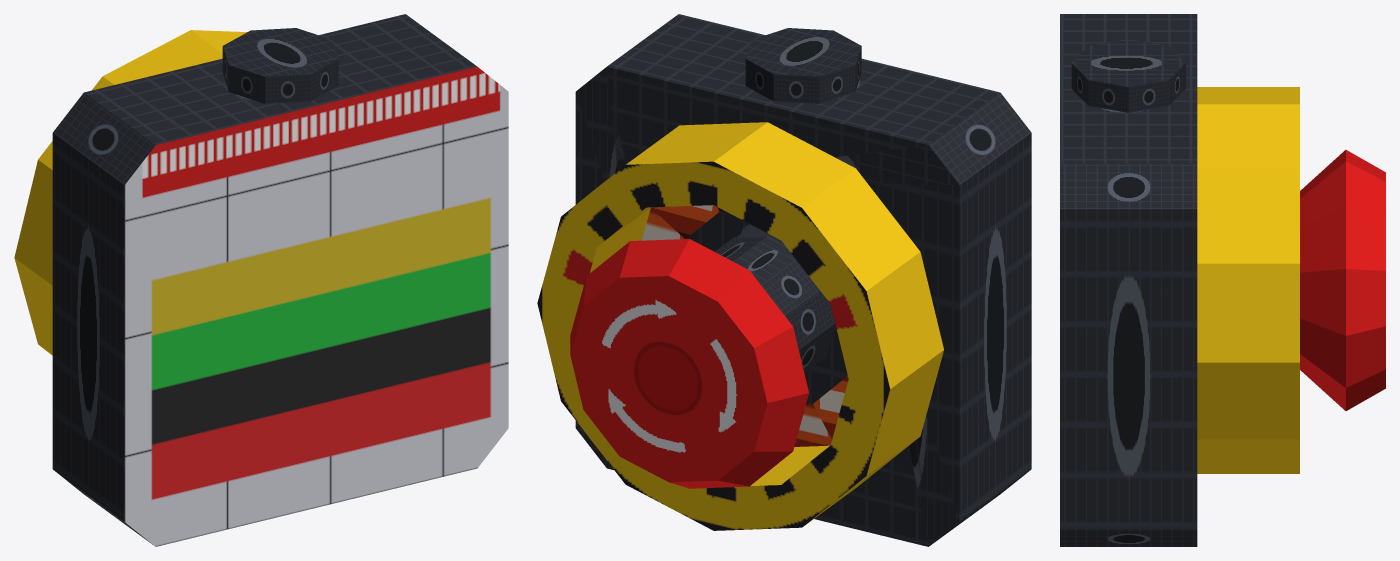
Rendered from SEC_Emergency_Stop_Mushroom.fbx.
3 renders of one model, left to right at view 1: azimuth 30°, elevation 25°; view 2: azimuth 150°, elevation 25°; view 3: azimuth 270°, elevation 25°, orthographic. The views are drawn at different scales.
Visible parts, largest first — view 1: Mount_Base, Guard_Ring; view 2: Mount_Base, Guard_Ring, Mushroom_Button; view 3: Mount_Base, Guard_Ring, Mushroom_Button.
Part boxes in pixels (x1,y1,x2,y2): Mount_Base: [52, 14, 508, 546]; Guard_Ring: [14, 30, 247, 355]; Mount_Base: [575, 14, 1031, 546]; Guard_Ring: [537, 122, 943, 530]; Mushroom_Button: [570, 236, 834, 488]; Mount_Base: [1060, 14, 1197, 546]; Guard_Ring: [1197, 87, 1299, 473]; Mushroom_Button: [1300, 150, 1385, 410].
Size of the model in its own units: 7.4 by 7.9 by 5.7.
Materials: 2 (2 with a texture image).
